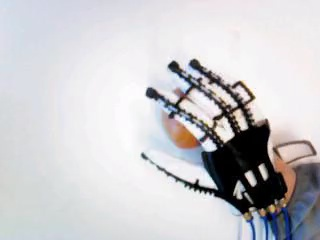apple: (160, 83, 214, 146)
hand: (146, 58, 286, 213)
